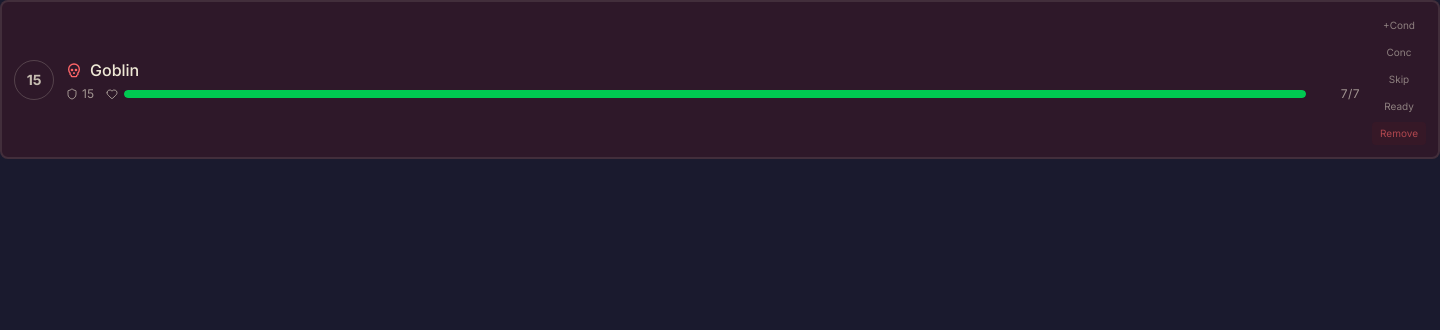
Test: CombatantCard › should open HP editor when HP bar is clicked
Click the button named "Edit HP for" at point(733, 94), box x1=106 y1=86 x2=1360 y2=102
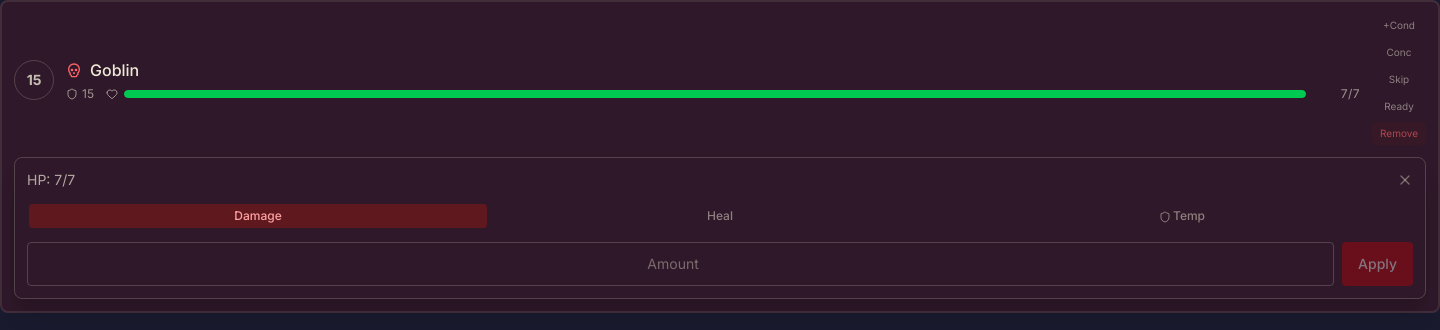
Expected: the element with test id "hp-editor" is shown, x1=14 y1=157 x2=1426 y2=299
